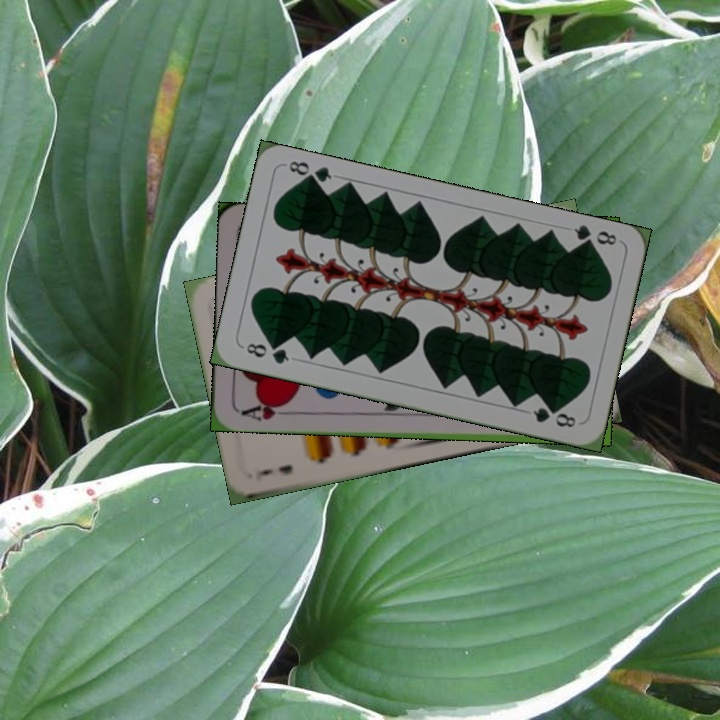E7: (251, 460, 295, 484)
G8: (570, 221, 619, 252), (239, 339, 292, 367)
HA: (237, 397, 295, 423)
